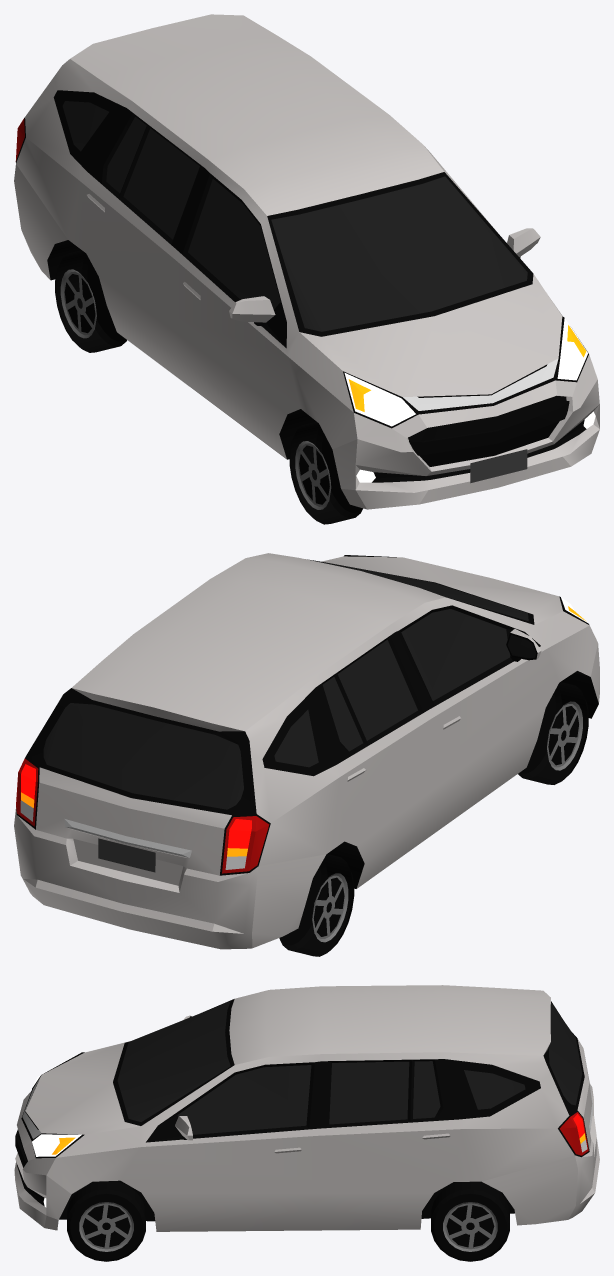
The model's file is lmpv2.glb.
3 renders of one model, top to bottom at view 1: azimuth 30°, elevation 25°; view 2: azimuth 150°, elevation 25°; view 3: azimuth 270°, elevation 25°, orthographic. The views are drawn at different scales.
Parts seen in each view (by area): view 1: body_4, Plane.003_2, Plane.002_1; view 2: body_4, Plane.003_2, Plane.002_1; view 3: body_4, Plane.010_3, Plane.001_0.
Part boxes in pixels (x1,y1,x2,y2): body_4: [14, 14, 599, 509]; Plane.003_2: [55, 250, 126, 352]; Plane.002_1: [289, 421, 362, 524]; body_4: [14, 553, 599, 949]; Plane.003_2: [279, 854, 354, 956]; Plane.002_1: [518, 682, 588, 784]; body_4: [14, 985, 599, 1231]; Plane.010_3: [67, 1181, 145, 1261]; Plane.001_0: [431, 1181, 509, 1261].
Bounding box in the file's own units: 1.91 × 1.54 × 4.06.
